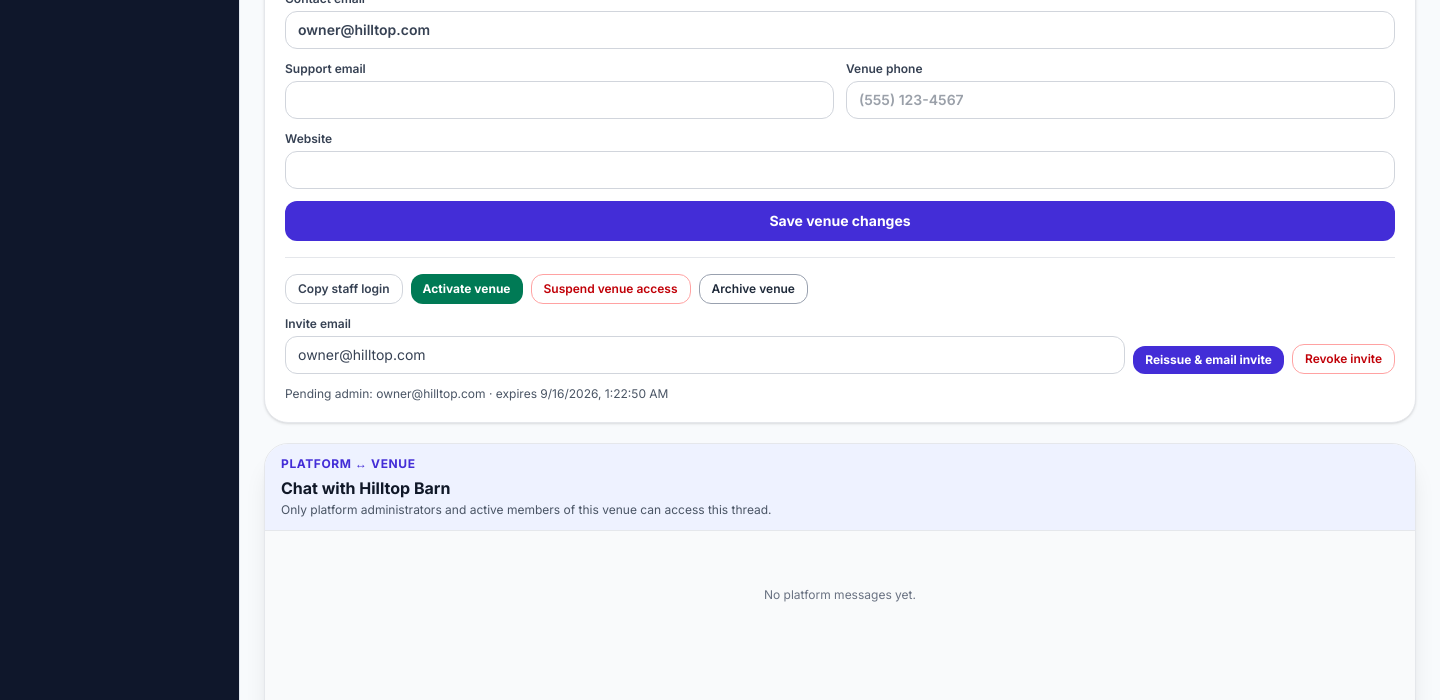
PlatformAdminPortal console › does not show another venue invite email preview on venue detail
(page scrolled)
Click the button "Reissue & email invite": [1209, 360] box [1133,346,1284,374]
(page scrolled)
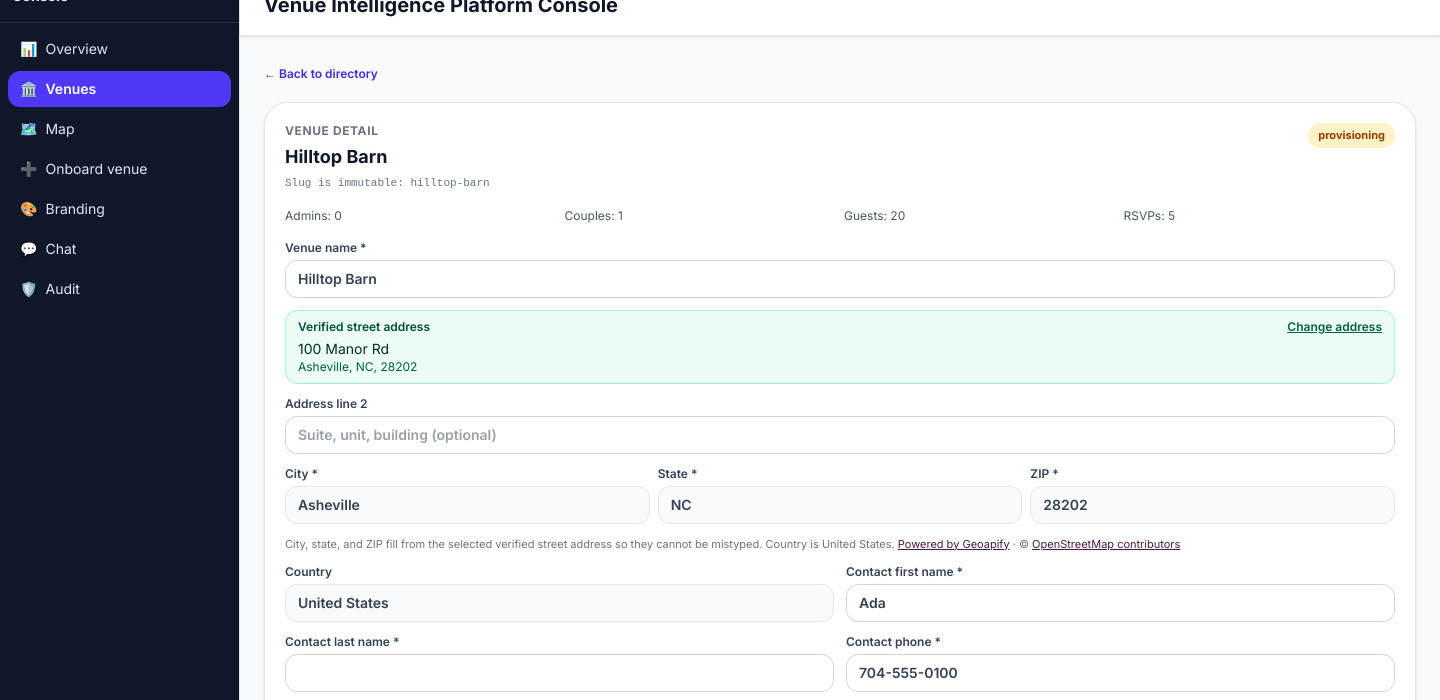
Click the button "← Back to directory": [321, 74] box [264,66,378,82]
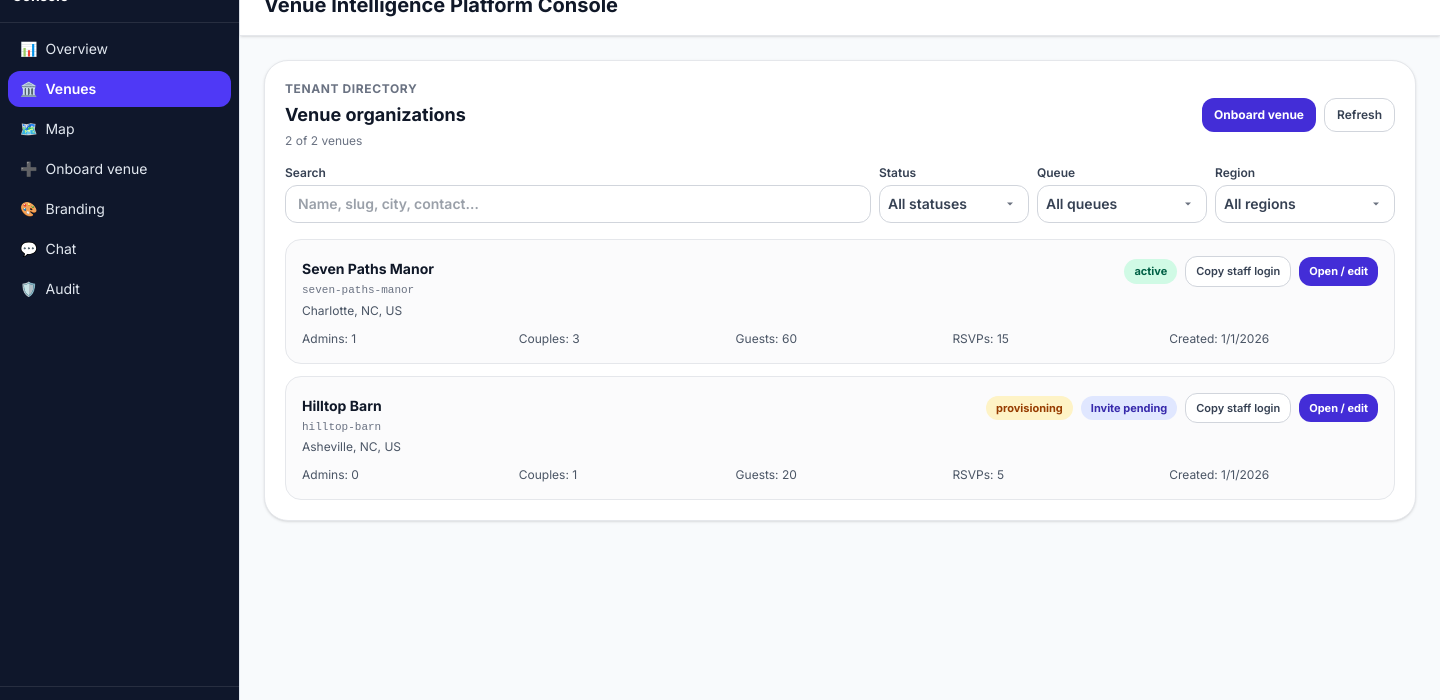
Click the button "Seven Paths Manor": [368, 269] box [302,259,434,279]
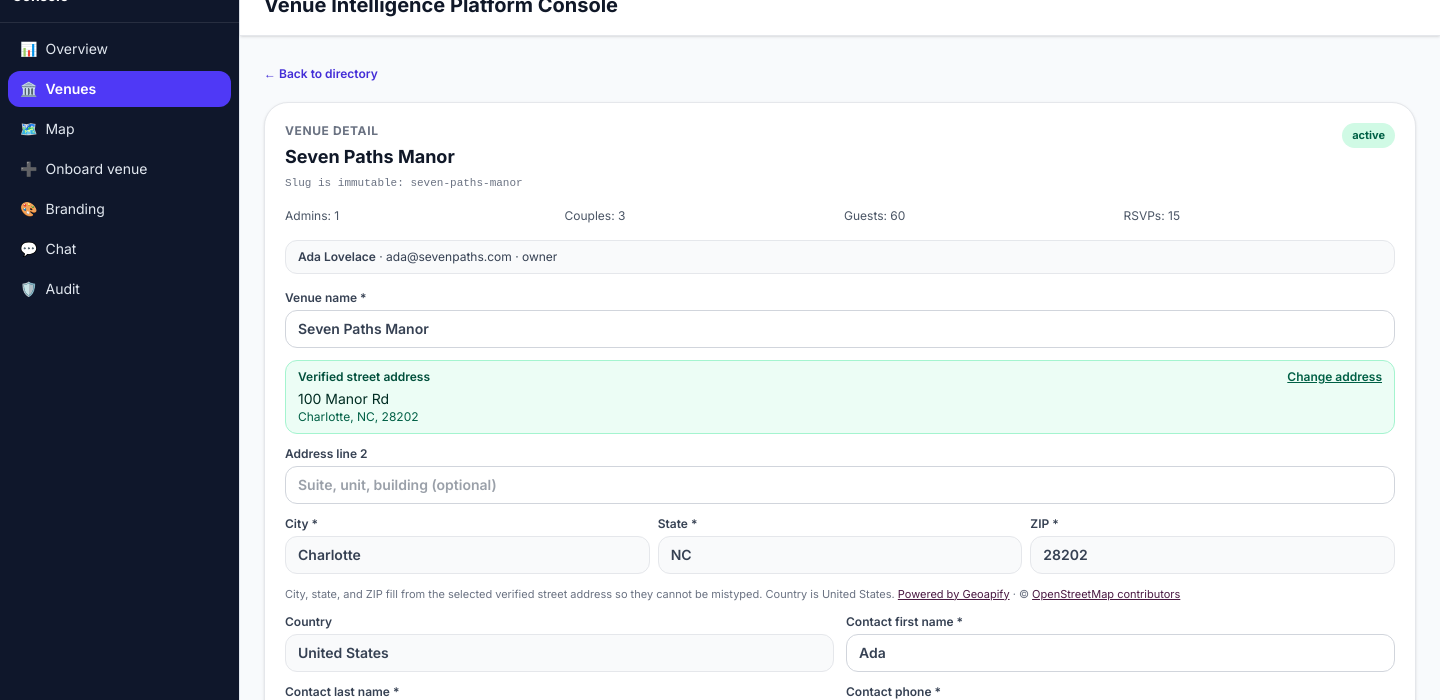
Expected: the text "Slug is immutable: seven-paths-manor" is shown, [285,175,523,192]
